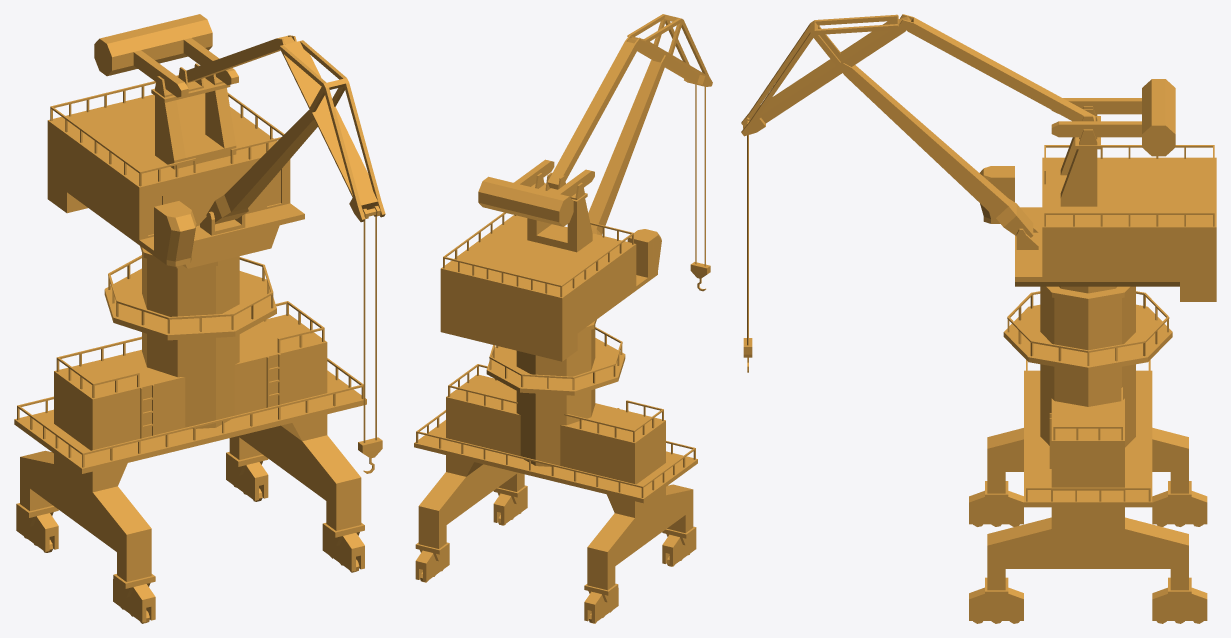
The model's file is crane-docks.glb.
3 renders of one model, left to right at view 1: azimuth 30°, elevation 25°; view 2: azimuth 150°, elevation 25°; view 3: azimuth 270°, elevation 25°, orthographic. The views are drawn at different scales.
Visible parts, largest first — view 1: crane-docks-base, crane-docks-top, crane-docks-arm-tip, crane-docks-arm-main, crane-docks-hook, crane-docks-arm-back; view 2: crane-docks-base, crane-docks-top, crane-docks-arm-main, crane-docks-arm-back, crane-docks-arm-tip, crane-docks-hook; view 3: crane-docks-base, crane-docks-top, crane-docks-arm-tip, crane-docks-arm-main, crane-docks-arm-back.
Boxes of the visible parts, x1,y1,x2,y2 form: crane-docks-base: (14, 246, 366, 623); crane-docks-top: (47, 14, 304, 268); crane-docks-arm-tip: (279, 36, 385, 222); crane-docks-arm-main: (206, 109, 317, 224); crane-docks-hook: (358, 216, 382, 473); crane-docks-arm-back: (186, 35, 296, 82); crane-docks-base: (414, 319, 697, 623); crane-docks-top: (440, 159, 661, 361); crane-docks-arm-main: (588, 55, 667, 235); crane-docks-arm-back: (547, 35, 641, 189); crane-docks-arm-tip: (627, 14, 712, 86); crane-docks-hook: (690, 84, 710, 291); crane-docks-base: (969, 286, 1207, 623); crane-docks-top: (980, 79, 1216, 301); crane-docks-arm-tip: (741, 14, 910, 136); crane-docks-arm-main: (838, 63, 1033, 237); crane-docks-arm-back: (900, 14, 1095, 121).
Size of the model in its own units: 17 by 33.56 by 25.92.
